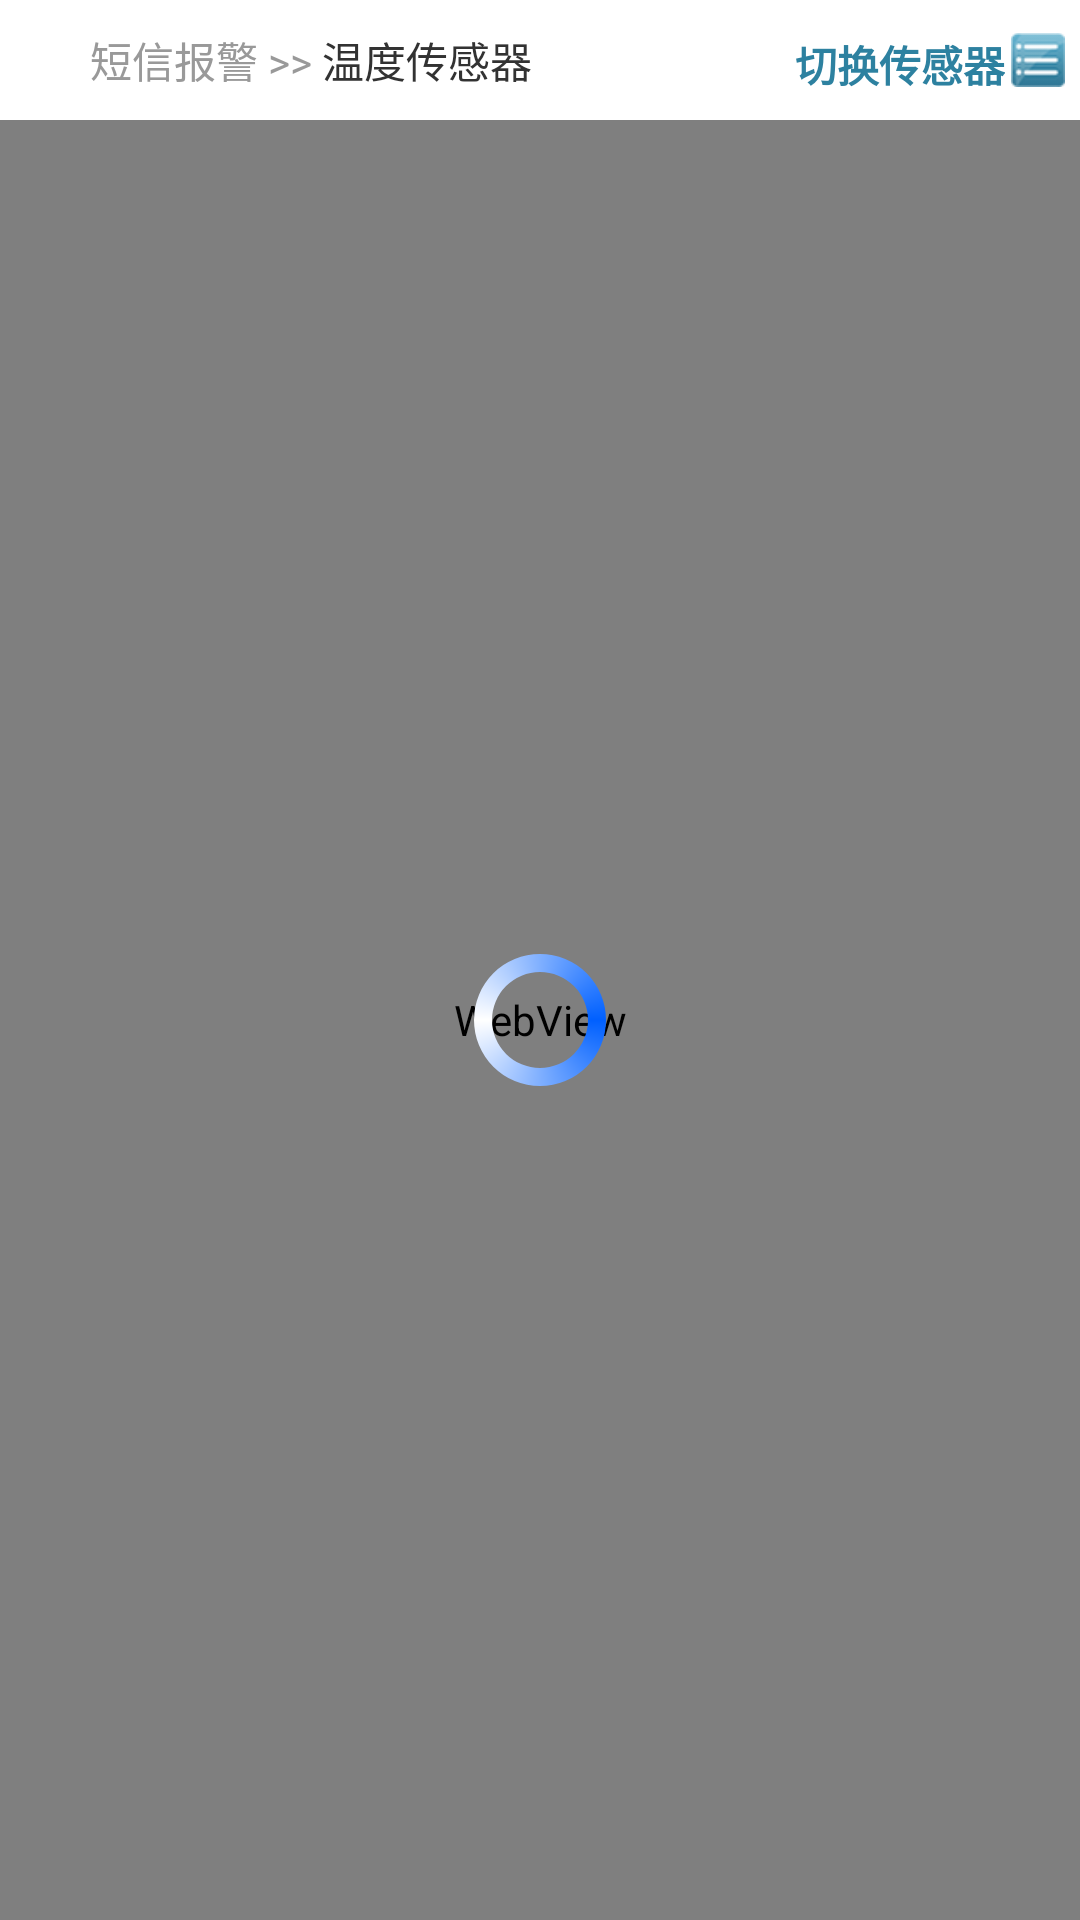

Icon bounding boxes for this 1080x1920 phone screenshot, format (x1, y1, x2, y2):
list: (1011, 33, 1065, 87)
